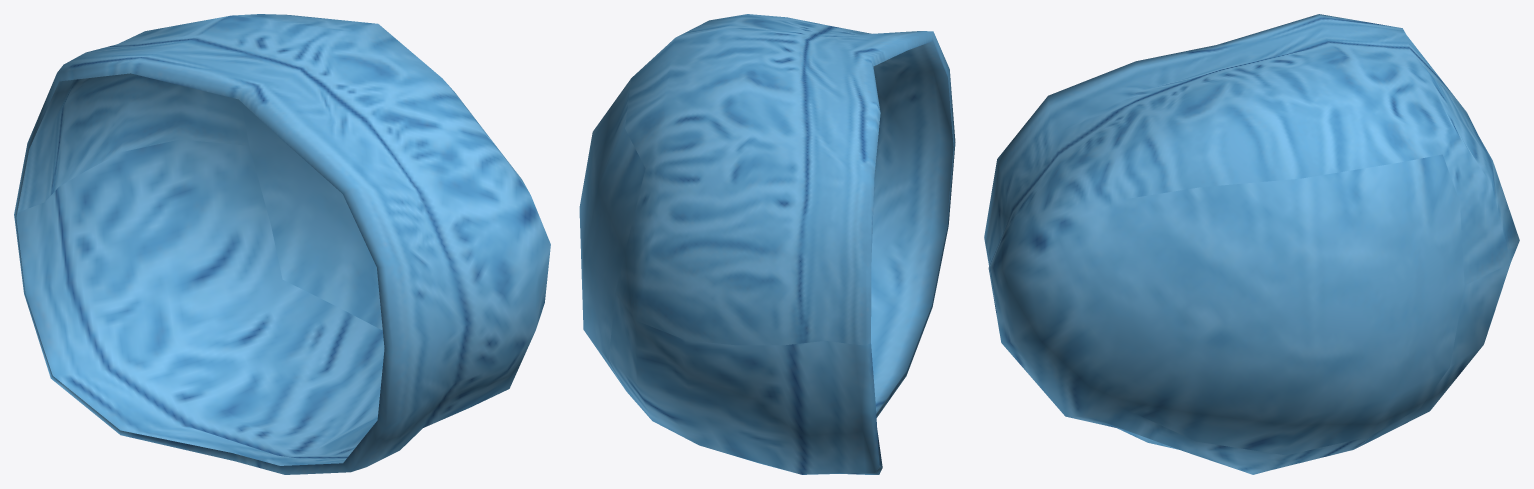
File: F_DentistCapNoBand.fbx
3 renders of one model, left to right at view 1: azimuth 30°, elevation 25°; view 2: azimuth 150°, elevation 25°; view 3: azimuth 270°, elevation 25°, orthographic. The views are drawn at different scales.
Parts seen in each view (by area): view 1: DentistCap; view 2: DentistCap; view 3: DentistCap.
Boxes of the visible parts, left/top/right/bottom form: DentistCap: left=14, top=14, right=550, bottom=474; DentistCap: left=579, top=14, right=955, bottom=474; DentistCap: left=984, top=14, right=1519, bottom=474.
Size of the model in its own units: 0.1101 by 0.1162 by 0.1433.
